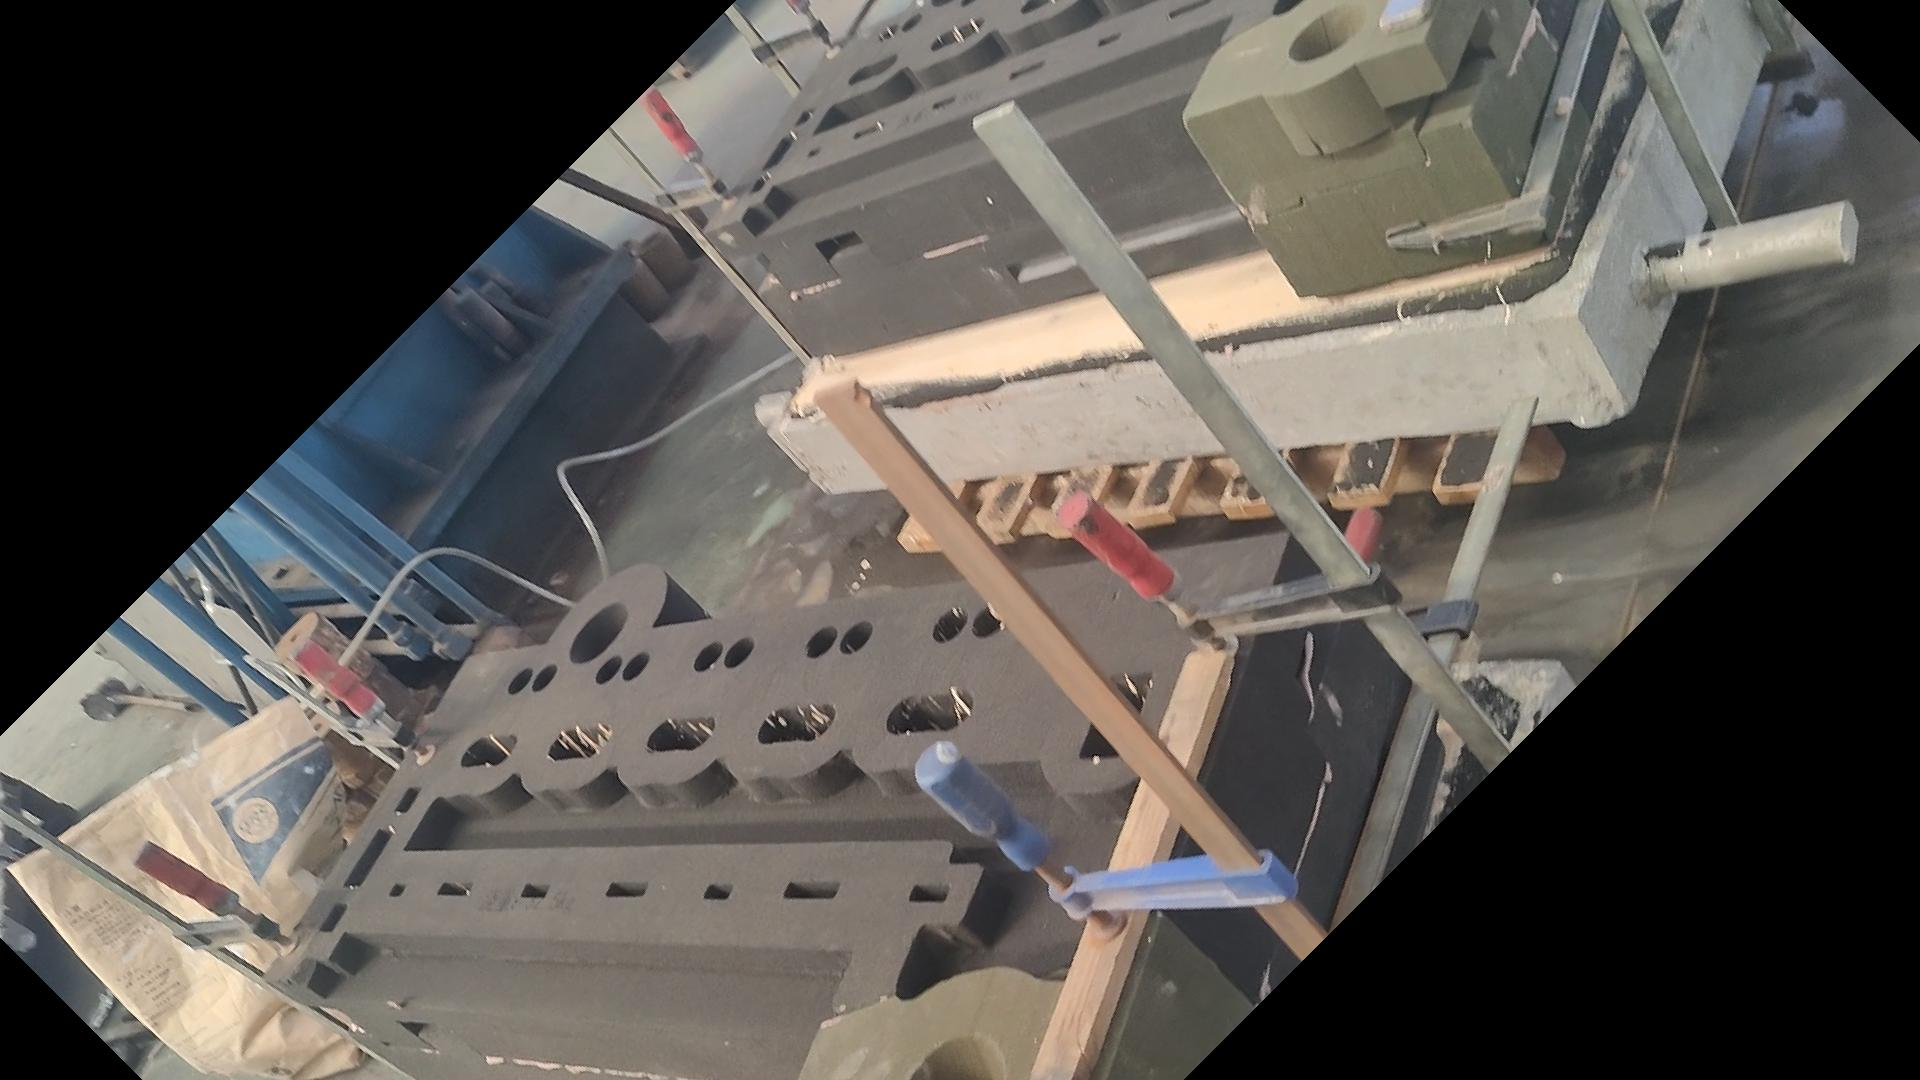pouring hole: (903, 1033, 1009, 1080), (1288, 1, 1367, 61), (568, 600, 626, 665), (637, 229, 665, 251), (611, 258, 640, 276), (609, 239, 636, 256), (927, 1, 953, 8)
